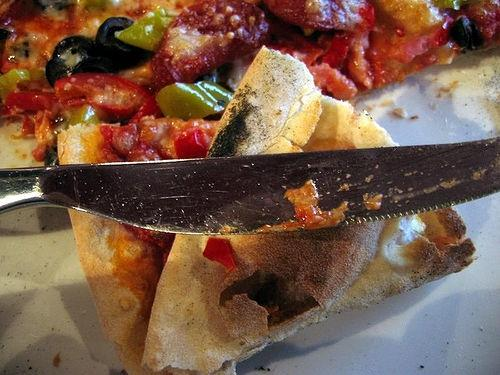bell pepper: (54, 73, 150, 120), (156, 80, 234, 120), (114, 7, 180, 52), (54, 104, 103, 135), (0, 66, 45, 98), (321, 31, 357, 70), (202, 237, 236, 276), (128, 89, 164, 123), (174, 126, 210, 158), (85, 0, 121, 12), (430, 0, 472, 10)
tomato: (150, 1, 270, 90), (364, 16, 454, 88), (53, 72, 150, 121), (394, 42, 464, 84), (262, 0, 346, 31), (265, 35, 324, 70), (340, 36, 375, 93), (172, 126, 212, 159), (322, 32, 356, 70), (203, 237, 236, 274), (108, 123, 140, 157), (5, 92, 59, 112), (472, 9, 500, 39), (124, 140, 162, 162), (0, 52, 30, 75)
